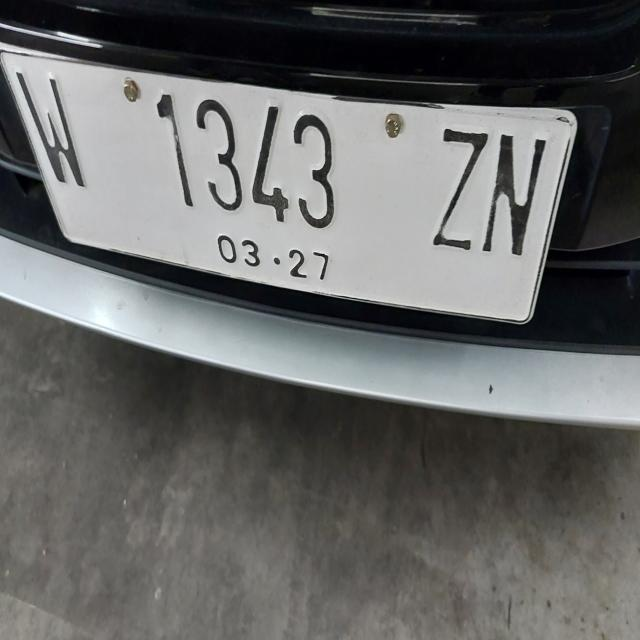1: (148, 78, 209, 232)
3: (192, 82, 250, 234), (286, 93, 341, 241)
4: (241, 86, 299, 238)
N: (481, 113, 545, 264)
W: (15, 54, 91, 200)
Z: (420, 103, 490, 273)
